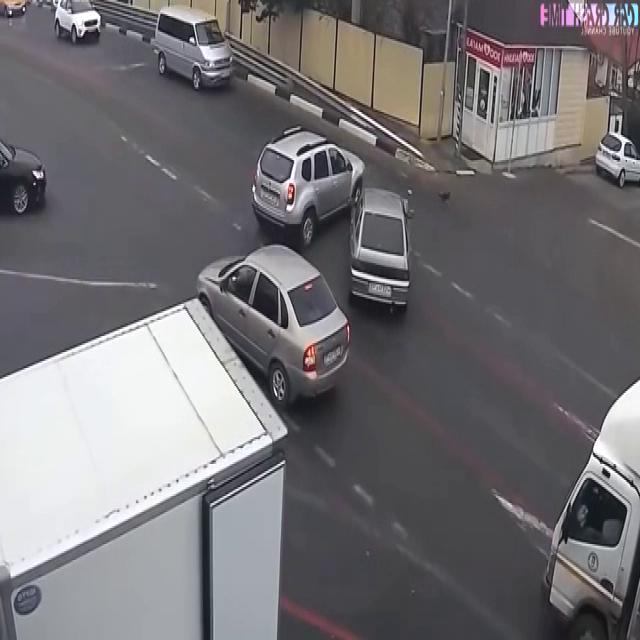accident: (254, 126, 416, 314)
non-accident: (0, 242, 348, 640)
